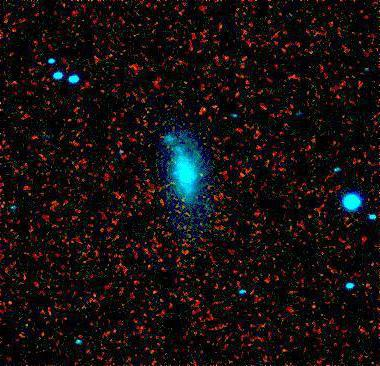star: (188, 158, 218, 188)
